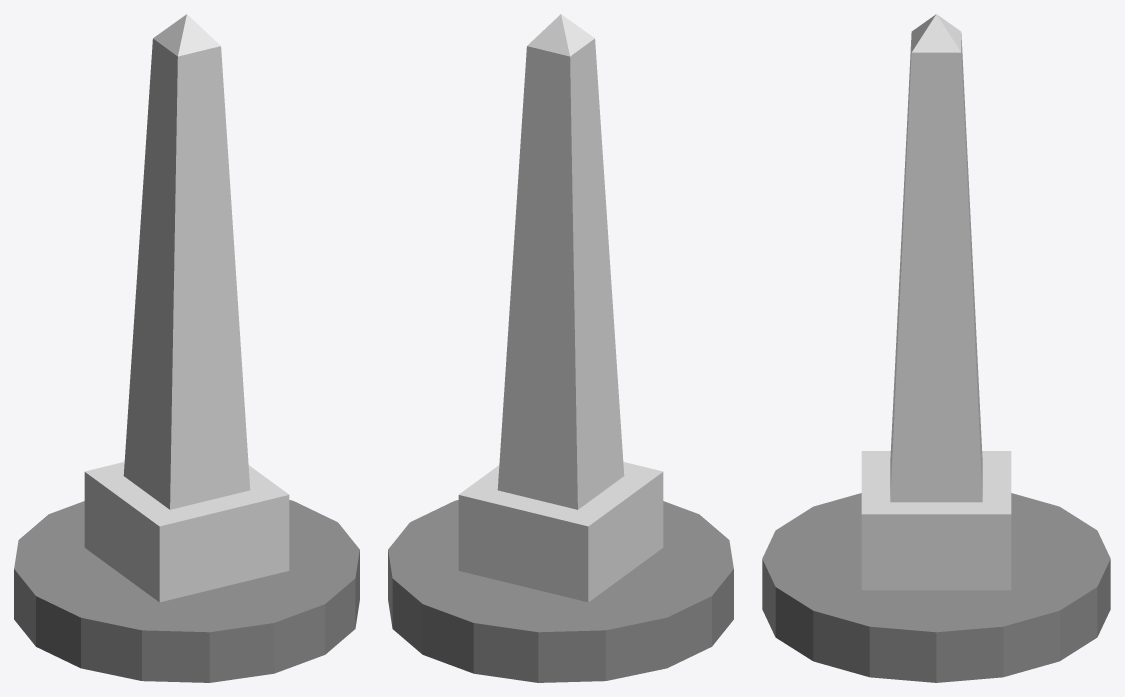
File: Monument_T-ShapedIntersection.fbx
3 views of the same model, side by side, from view 1: azimuth 30°, elevation 25°; view 2: azimuth 150°, elevation 25°; view 3: azimuth 270°, elevation 25° (orthographic).
Visible parts, largest first — view 1: BenchT_ShapedIntersection_T_Colors; view 2: BenchT_ShapedIntersection_T_Colors; view 3: BenchT_ShapedIntersection_T_Colors.
Part boxes in pixels (x1,y1,x2,y2): BenchT_ShapedIntersection_T_Colors: (14, 14, 359, 682); BenchT_ShapedIntersection_T_Colors: (388, 14, 733, 682); BenchT_ShapedIntersection_T_Colors: (762, 14, 1110, 682).
Bounding box in the file's own units: 430 × 810 × 430.
